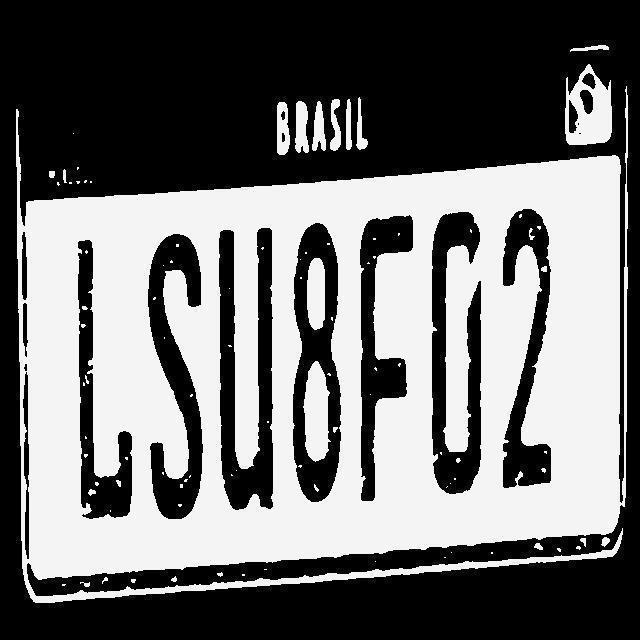0: (430, 204, 493, 498)
2: (501, 199, 564, 493)
8: (291, 222, 346, 512)
f: (366, 212, 420, 508)
l: (66, 238, 140, 520)
s: (147, 233, 206, 531)
u: (214, 223, 280, 531)
